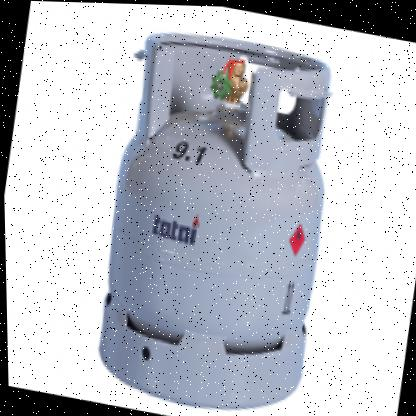gas-tank: (51, 7, 371, 415)
